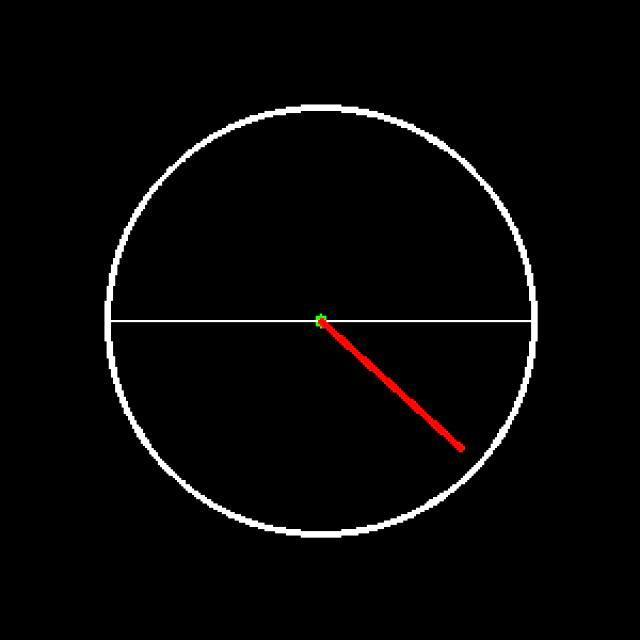Needle_Tip: (425, 418, 481, 458)
Needle_base: (302, 299, 346, 361)
